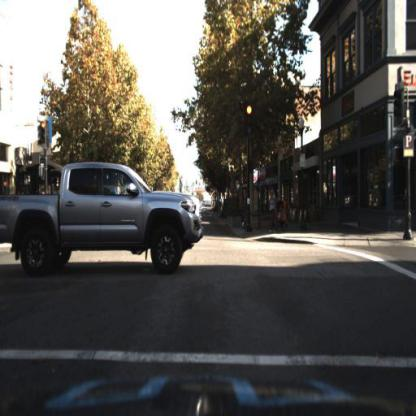car: (2, 153, 207, 274), (2, 160, 204, 282)
pedestrian: (270, 189, 289, 234)
trafficLight-Red: (38, 113, 52, 144), (246, 101, 255, 129), (39, 119, 48, 146)
